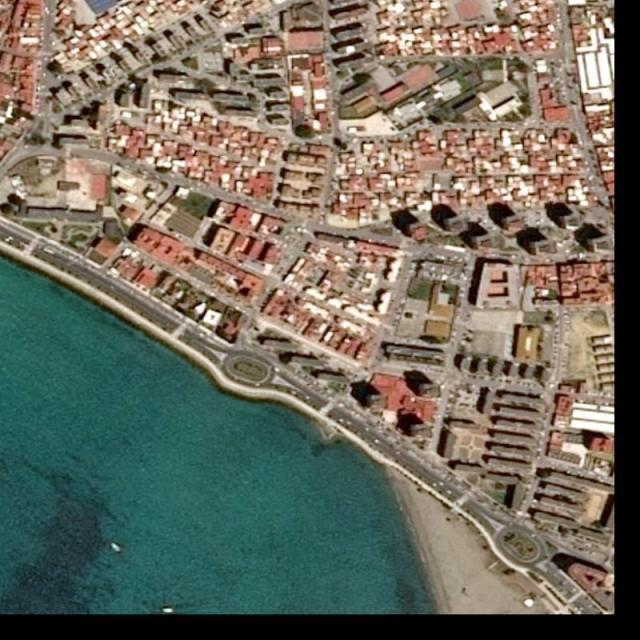ship: (110, 540, 123, 554), (162, 608, 174, 614)
